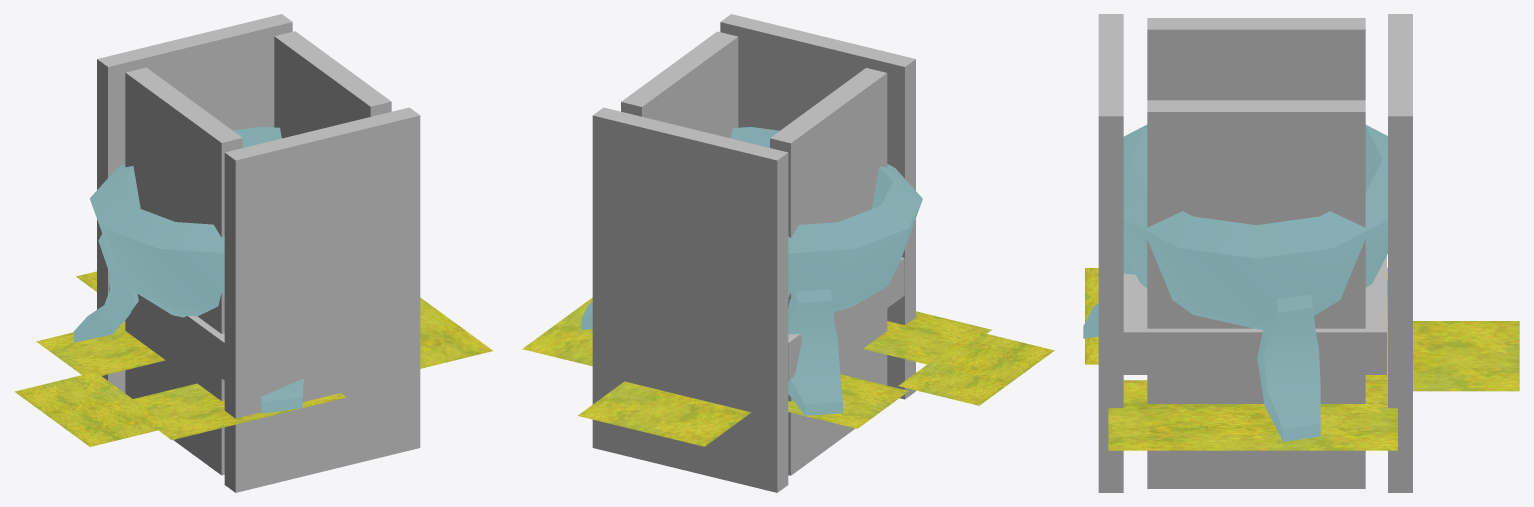
The model's file is smallSpring.fbx.
3 renders of one model, left to right at view 1: azimuth 30°, elevation 25°; view 2: azimuth 150°, elevation 25°; view 3: azimuth 270°, elevation 25°, orthographic. The views are drawn at different scales.
Visible parts, largest first — view 1: Base_Thin_01 (14), Base_Thin_01 (17), Bowl_metal, Base_Thin_01 (16), Base_Thin_01 (15), gPlan_0, gPlan_4, gPlan_3, smallSpring, gPlan_1; view 2: Base_Thin_01 (16), Base_Thin_01 (17), Bowl_metal, Base_Thin_01 (14), Base_Thin_01 (15), gPlan_0, gPlan_2, gPlan_4, gPlan_3, smallSpring, gPlan_1; view 3: Base_Thin_01 (15), Bowl_metal, Base_Thin_01 (17), gPlan_1, smallSpring, Base_Thin_01 (14), Base_Thin_01 (16), gPlan_2, gPlan_4.
Part boxes in pixels (bbox=[...]): Base_Thin_01 (14): bbox=[224, 107, 420, 492]; Base_Thin_01 (17): bbox=[125, 67, 242, 475]; Bowl_metal: bbox=[73, 126, 303, 413]; Base_Thin_01 (16): bbox=[97, 14, 292, 392]; Base_Thin_01 (15): bbox=[274, 31, 391, 138]; gPlan_0: bbox=[15, 372, 170, 446]; gPlan_4: bbox=[133, 383, 346, 439]; gPlan_3: bbox=[36, 321, 165, 375]; smallSpring: bbox=[109, 283, 224, 380]; gPlan_1: bbox=[420, 297, 492, 368]; Base_Thin_01 (16): bbox=[592, 107, 788, 492]; Base_Thin_01 (17): bbox=[770, 68, 887, 475]; Bowl_metal: bbox=[581, 127, 922, 415]; Base_Thin_01 (14): bbox=[720, 14, 915, 399]; Base_Thin_01 (15): bbox=[621, 31, 738, 138]; gPlan_0: bbox=[898, 330, 1054, 405]; gPlan_2: bbox=[577, 381, 751, 446]; gPlan_4: bbox=[863, 311, 991, 364]; gPlan_3: bbox=[787, 374, 908, 428]; smallSpring: bbox=[788, 257, 904, 380]; gPlan_1: bbox=[522, 297, 592, 366]; Base_Thin_01 (15): bbox=[1147, 100, 1365, 488]; Bowl_metal: bbox=[1083, 125, 1387, 441]; Base_Thin_01 (17): bbox=[1147, 18, 1365, 100]; gPlan_1: bbox=[1108, 380, 1397, 450]; smallSpring: bbox=[1123, 256, 1386, 374]; Base_Thin_01 (14): bbox=[1098, 14, 1123, 492]; Base_Thin_01 (16): bbox=[1388, 14, 1412, 492]; gPlan_2: bbox=[1365, 321, 1519, 391]; gPlan_4: bbox=[1085, 268, 1098, 364].
Bounding box in the file's own units: 5.43 × 4.27 × 4.48.
